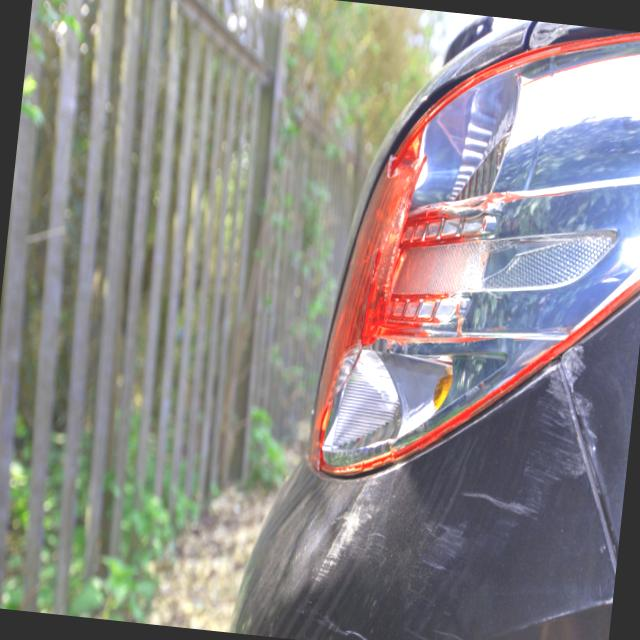Rayure: (337, 326, 606, 640)
